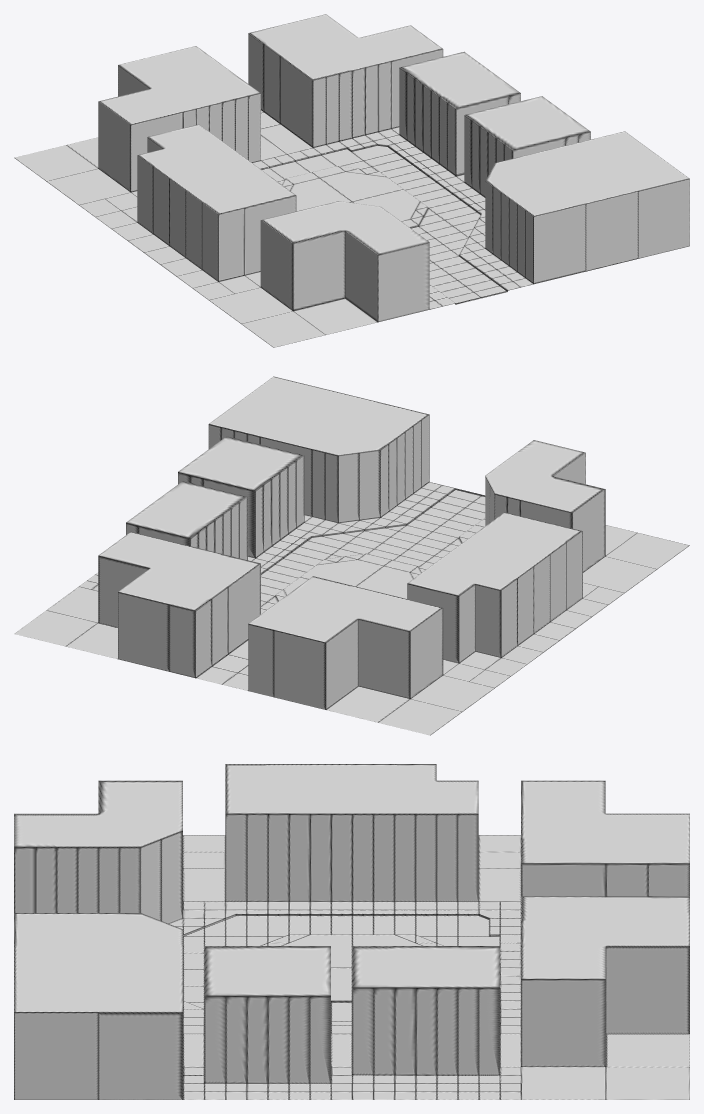
File: tentativa_escenario1.obj
3 views of the same model, one above another, from view 1: azimuth 30°, elevation 25°; view 2: azimuth 150°, elevation 25°; view 3: azimuth 270°, elevation 25° (orthographic). The views are drawn at different scales.
Parts seen in each view (by area): view 1: Plane; view 2: Plane; view 3: Plane.
Boxes of the visible parts, x1=… form: Plane: x1=14, y1=14, x2=689, y2=347; Plane: x1=14, y1=376, x2=689, y2=735; Plane: x1=14, y1=764, x2=689, y2=1099.
Bounding box in the file's own units: 16.15 × 2.55 × 17.44.
Materials: 1 (1 with a texture image).
